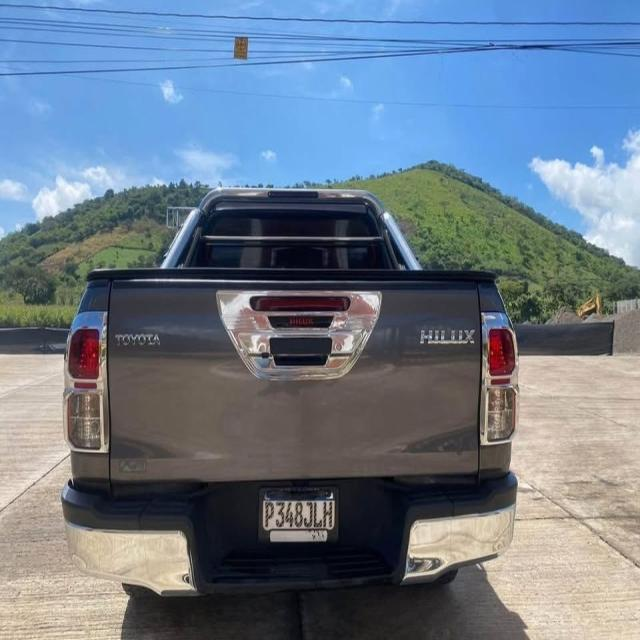Placas: (256, 479, 343, 556)
